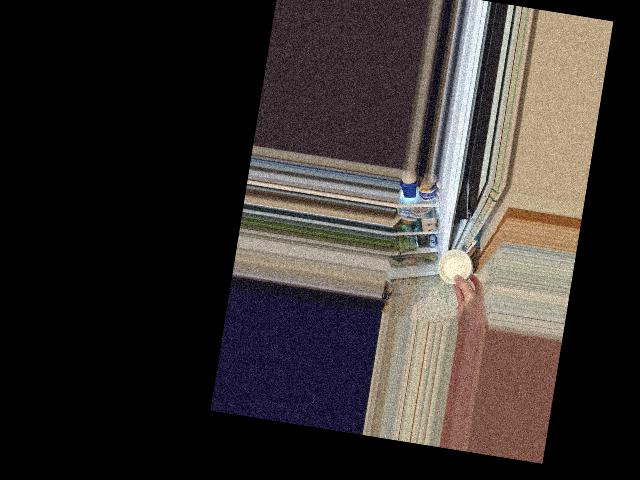cotage: (438, 248, 477, 288)
